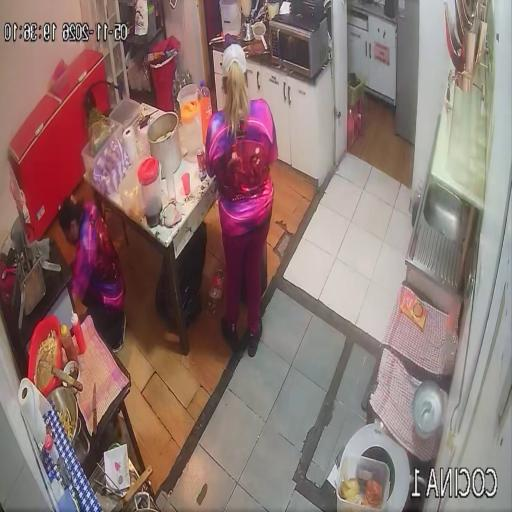Basurero: (138, 156, 162, 227)
Persona2: (206, 45, 278, 344)
Tapa de olla: (413, 380, 445, 439)
